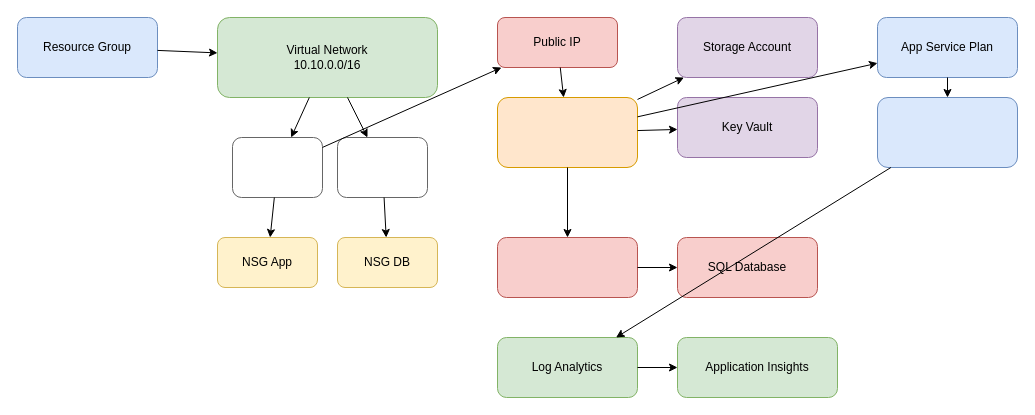
This 1035x415 diagram has some shape labels left out. The box of each missing label's shape, as (x1, y1, x2, y2) in pixels:
App Subnet 10.10.1.0/24: (232, 136, 322, 198)
DB Subnet 10.10.2.0/24: (336, 136, 428, 198)
Linux VM Ubuntu 22.04: (496, 96, 638, 168)
SQL Server: (496, 236, 638, 298)
Web App Python 3.11: (876, 96, 1018, 168)
